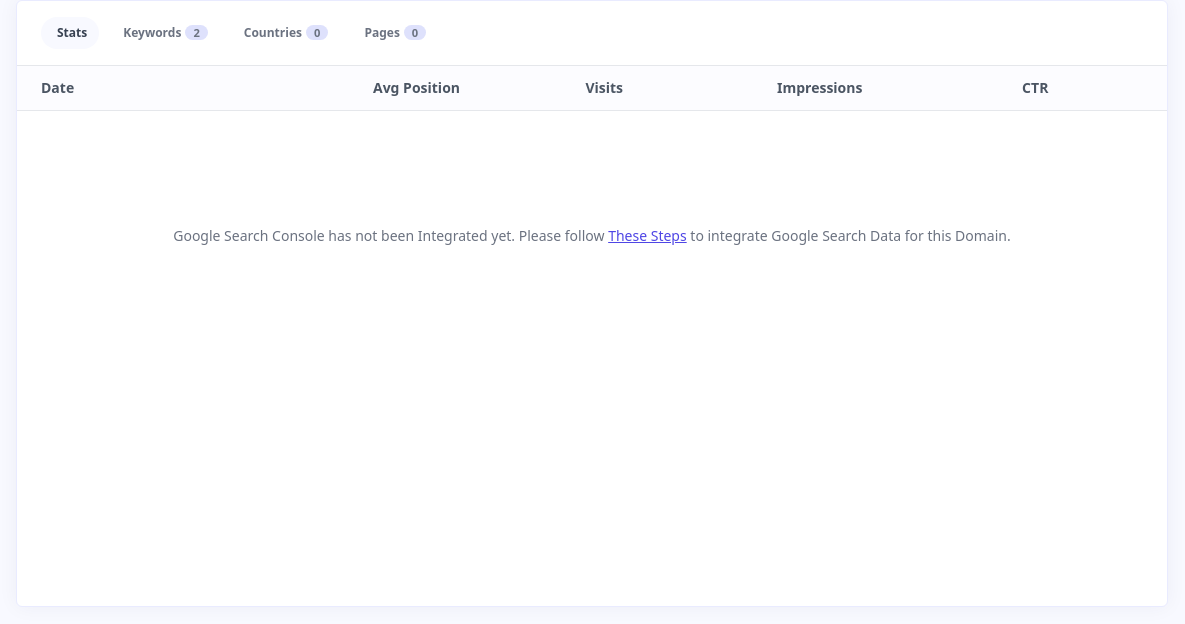
Test: Insight component › omits the bottom border on the final insight row
Click the text "keywords": (152, 33) x1=123 y1=25 x2=181 y2=41
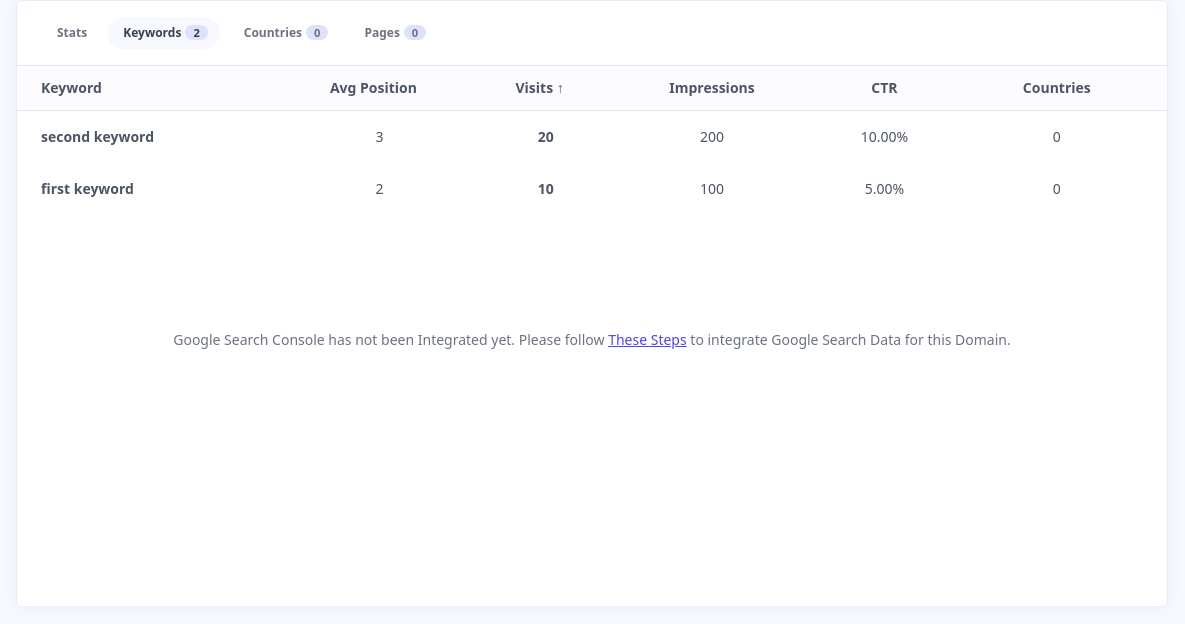
Result: the element with class "keyword" that starts with "second keyword" is shown at x1=41 y1=127 x2=1061 y2=146
Result: the element with class "keyword" showing "first keyword 2 10 100 5.00% 0" is shown at x1=41 y1=179 x2=1061 y2=198
